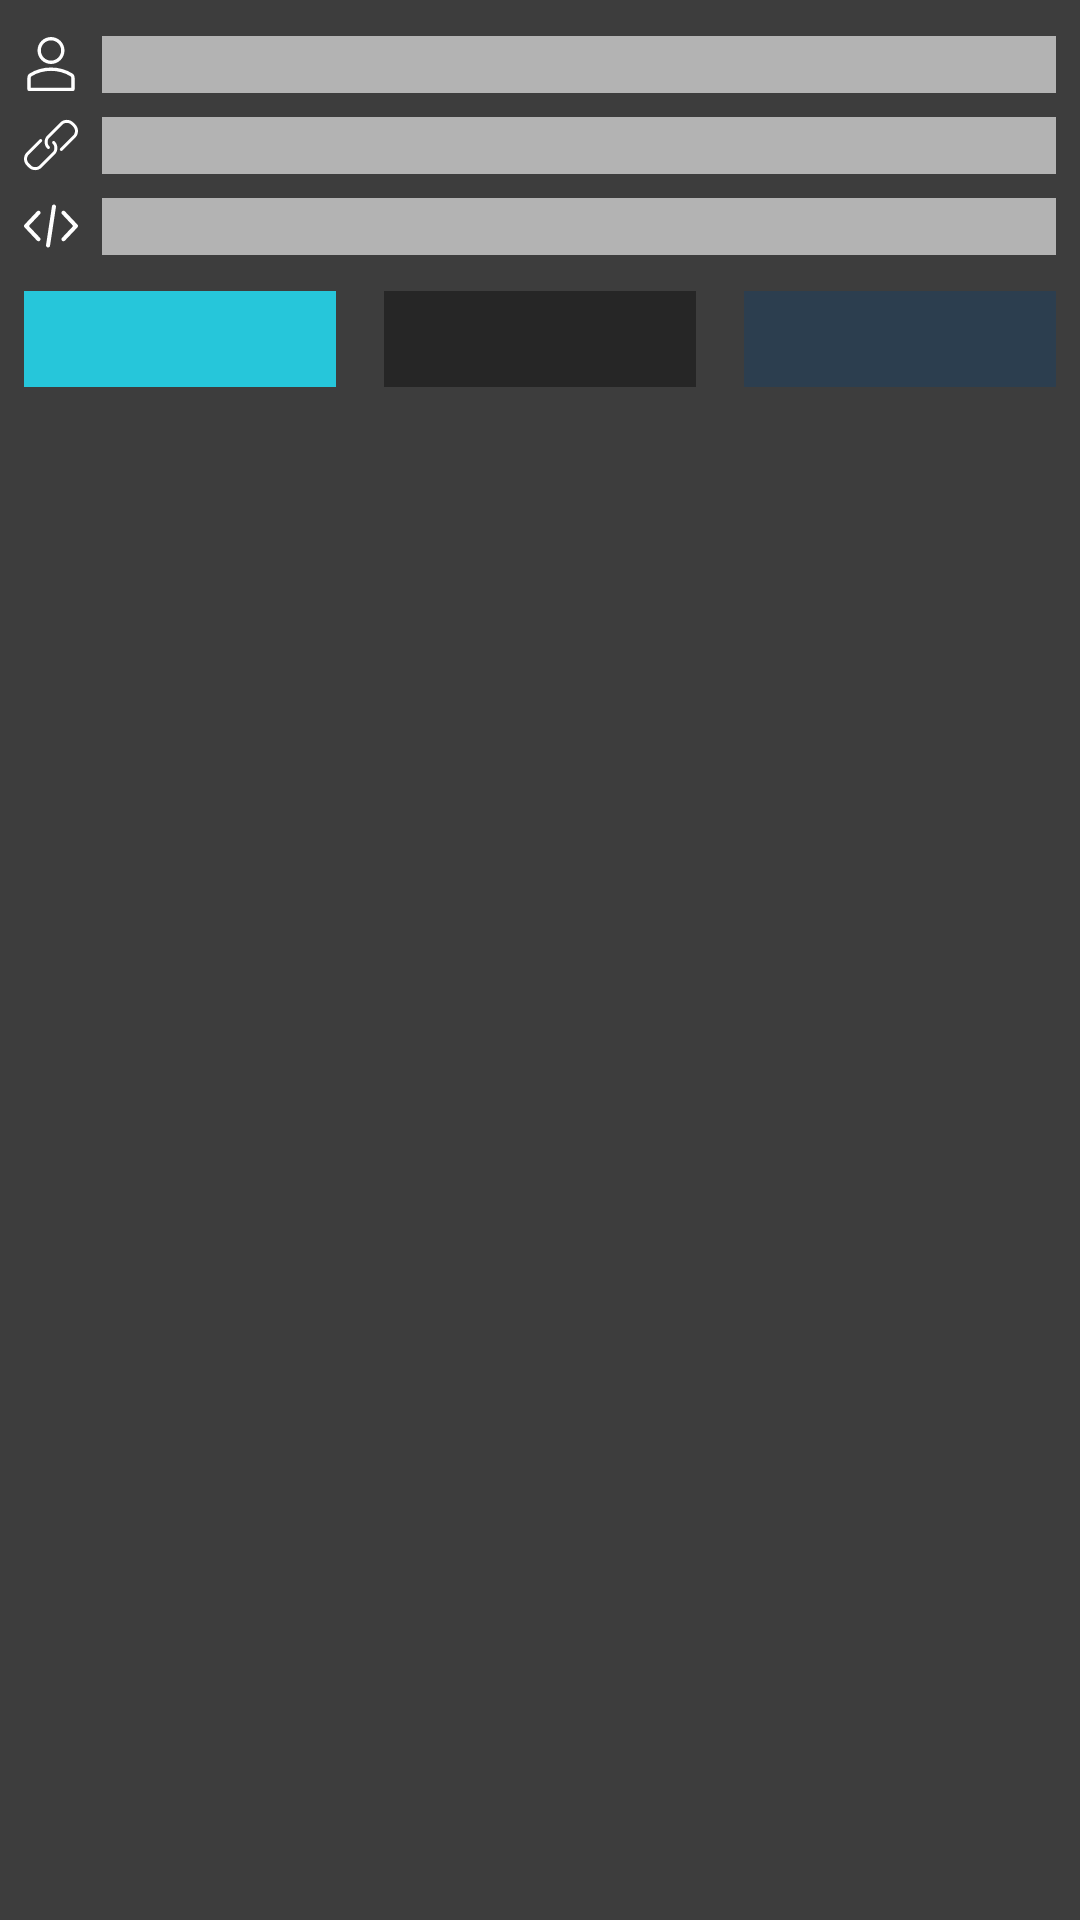

Named icons in this screenshot (1080*1920) and their bounding boxes, (x1, y1, x2, y2):
coding: (24, 204, 78, 248)
link: (24, 120, 78, 170)
user: (27, 37, 75, 91)
